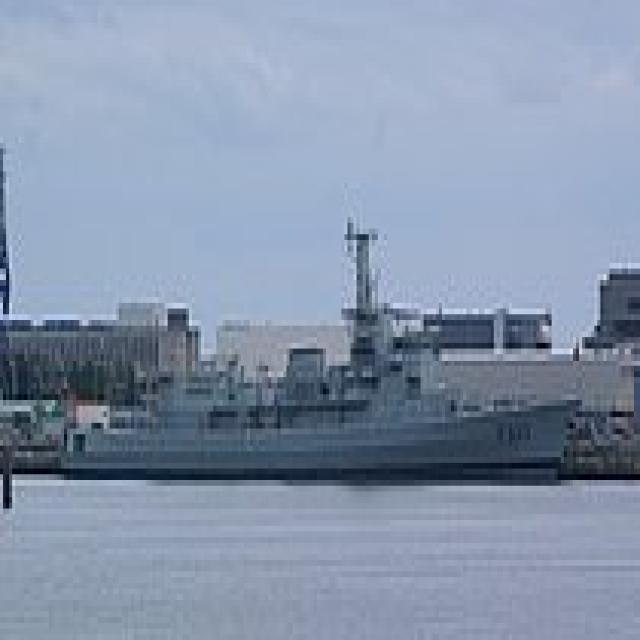Warship: (49, 211, 579, 486)
